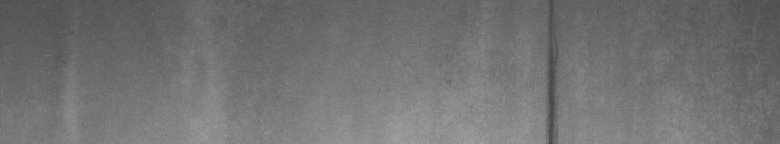hd: (540, 4, 563, 136)
